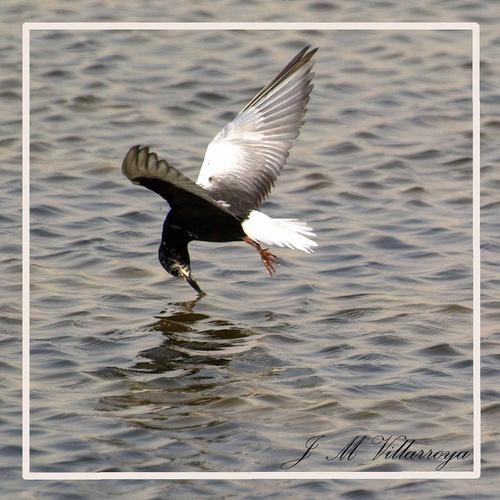bird: (123, 45, 322, 302)
